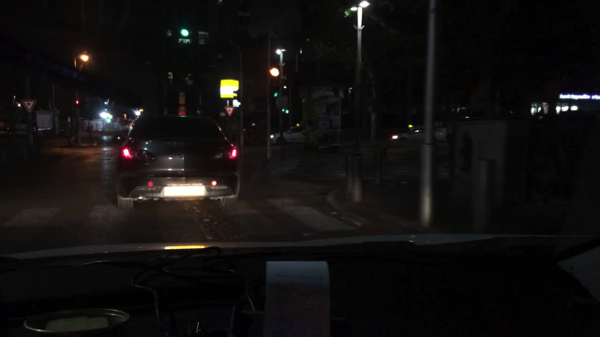car: (114, 114, 238, 213), (389, 125, 445, 141), (268, 125, 303, 142), (114, 130, 128, 145)
traffic light: (181, 27, 190, 39), (271, 90, 278, 99), (73, 99, 81, 106), (284, 108, 288, 115)
traffic sign: (37, 111, 52, 130), (21, 99, 37, 113), (224, 105, 234, 116), (179, 90, 186, 105), (177, 104, 187, 111)
